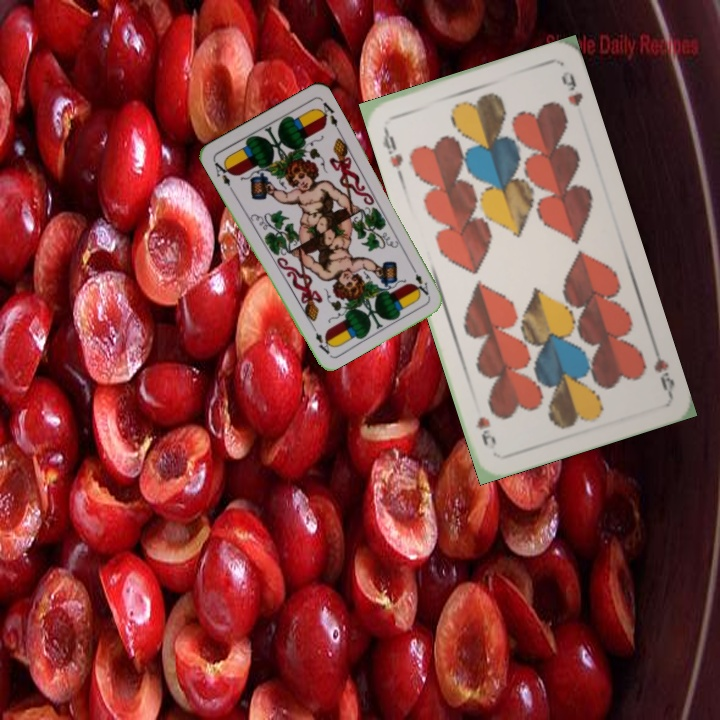EA: (210, 156, 235, 193), (411, 270, 432, 299)
H9: (648, 339, 678, 397), (378, 122, 406, 179)
